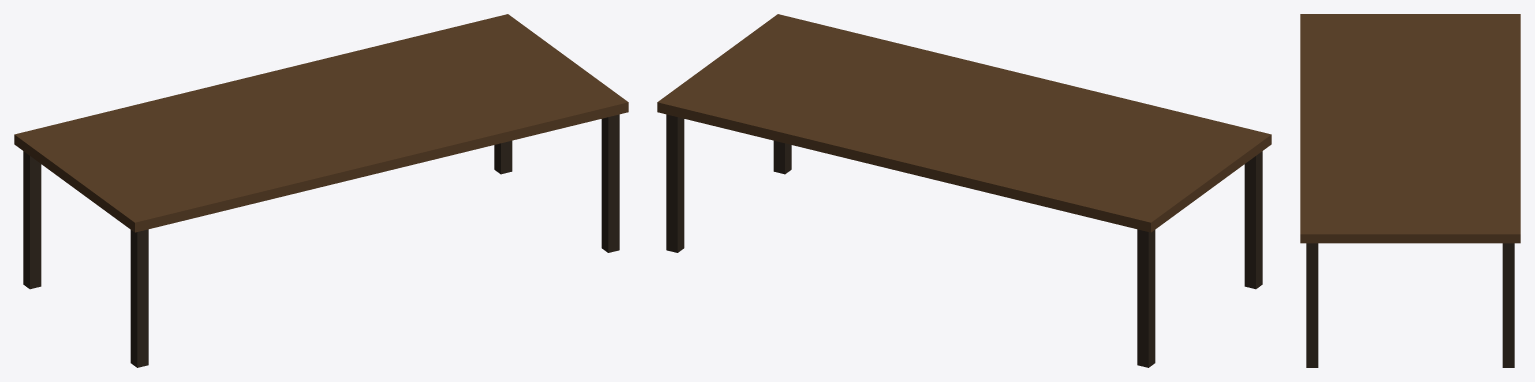
File: prop_dining_table.glb
3 renders of one model, left to right at view 1: azimuth 30°, elevation 25°; view 2: azimuth 150°, elevation 25°; view 3: azimuth 270°, elevation 25°, orthographic. The views are drawn at different scales.
Visible parts, largest first — view 1: body; view 2: body; view 3: body.
Part boxes in pixels (left/top/right/bottom): body: left=14, top=14, right=628, bottom=367; body: left=657, top=14, right=1271, bottom=367; body: left=1300, top=14, right=1520, bottom=367.
Size of the model in its own units: 2.6 by 0.75 by 1.1.
